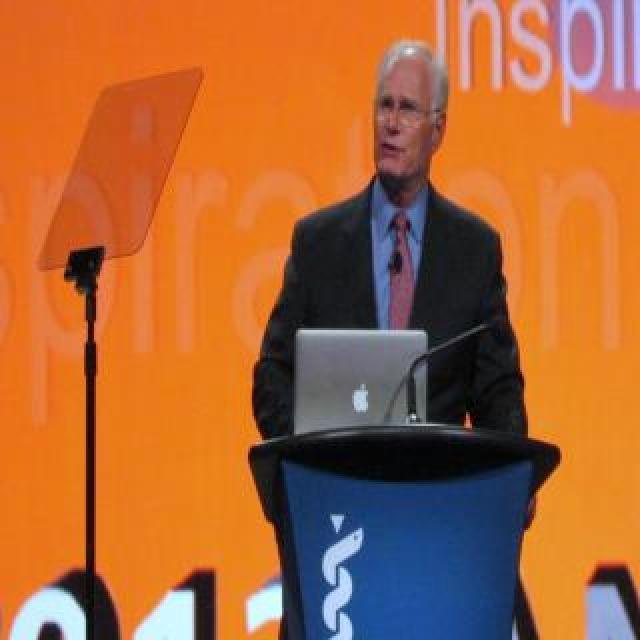laptop_computer: (262, 312, 443, 443)
